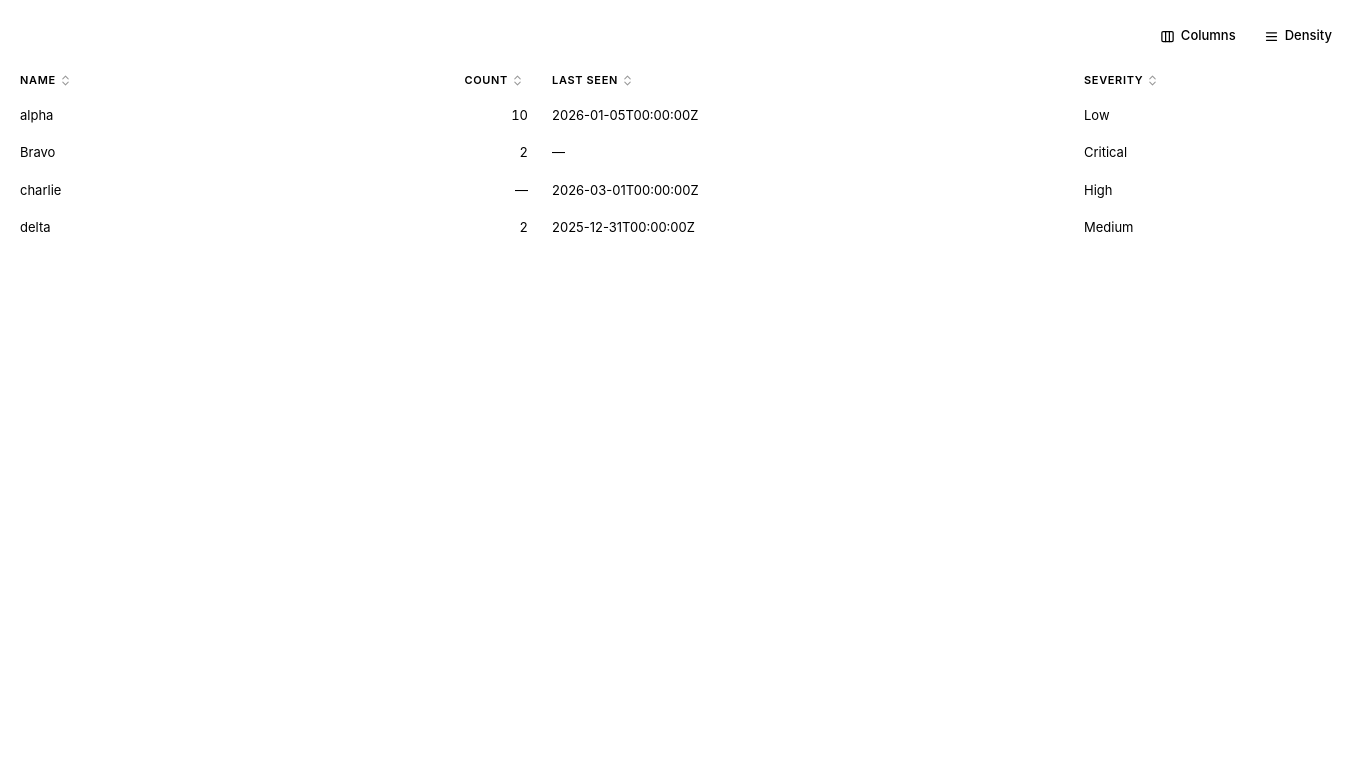
Test: DataGrid › switches density from an accessible radio group
Click the button "Density": (1298, 36) x1=1254 y1=20 x2=1342 y2=52
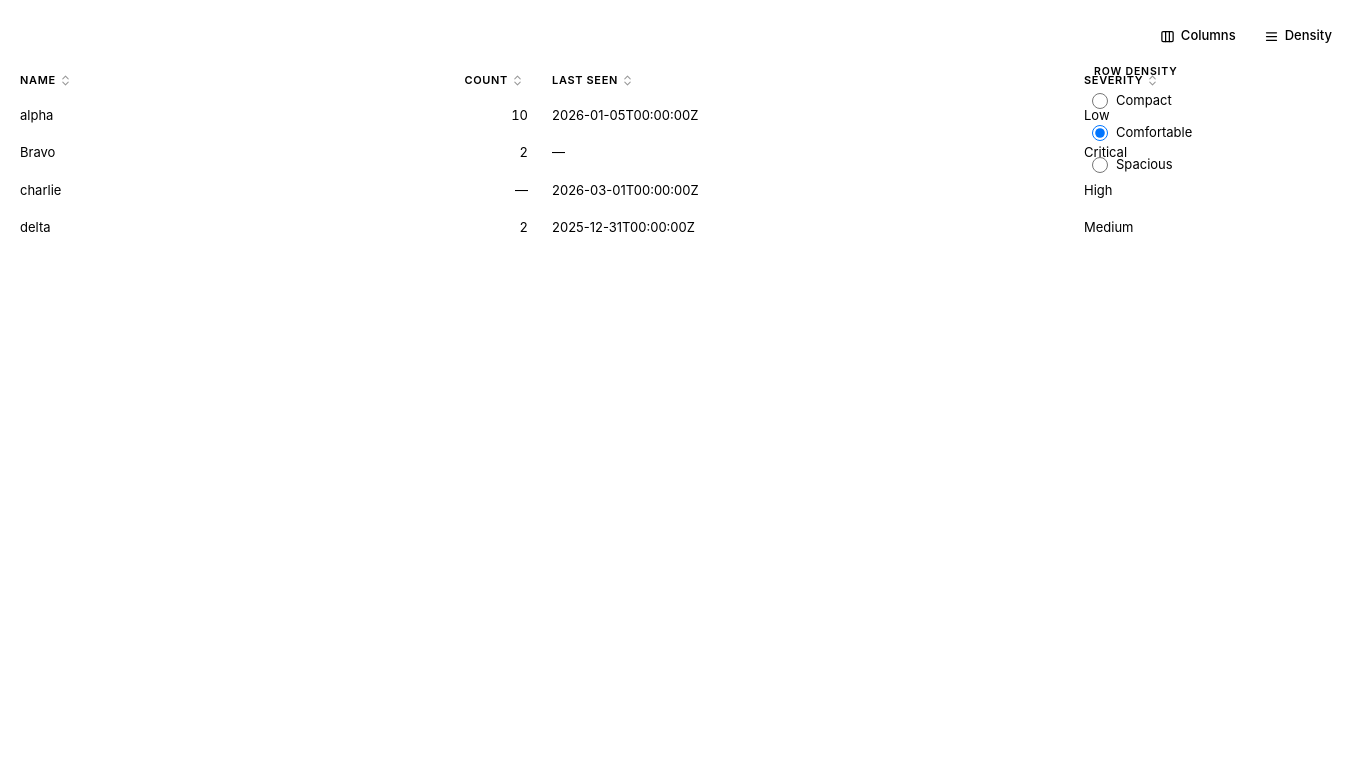
Click the radio button labelled "Spacious": (1100, 165) x1=1092 y1=157 x2=1108 y2=173
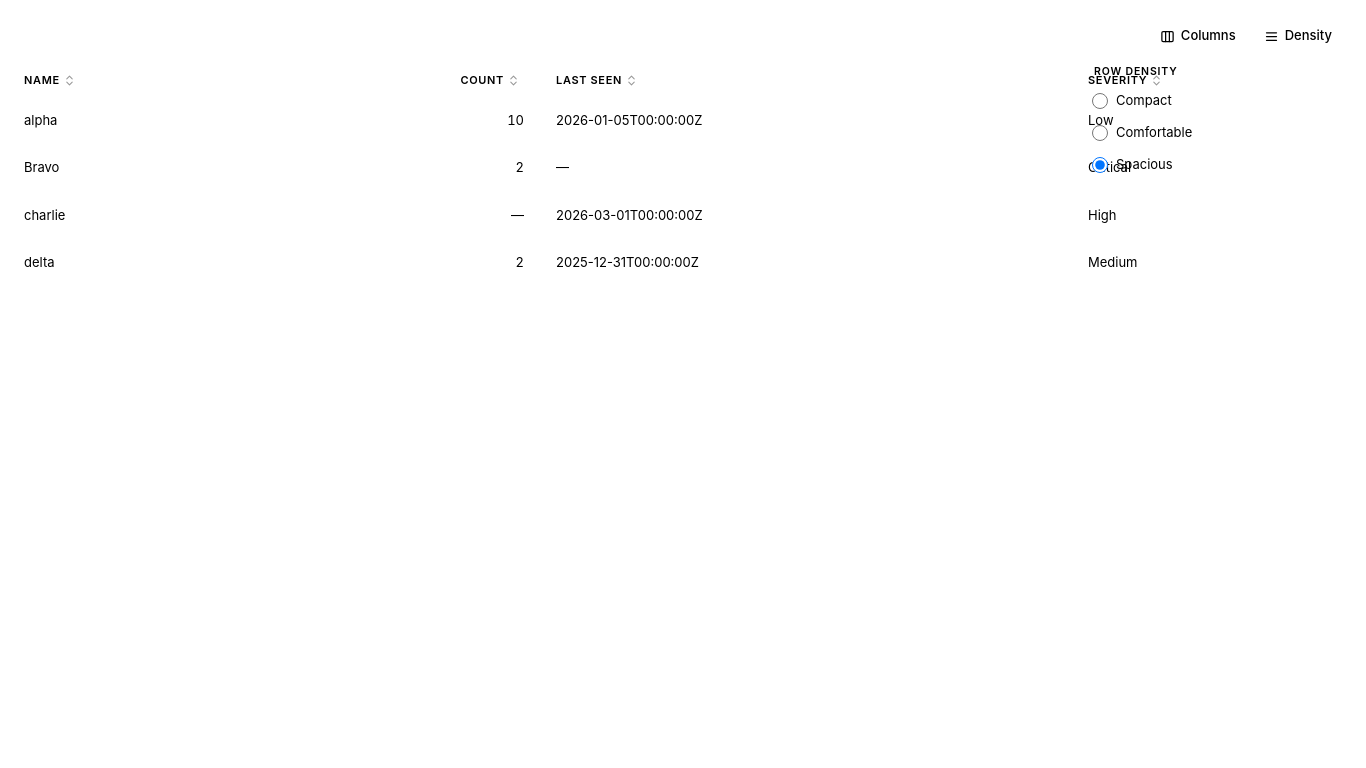
Result: the element with class "data-grid" has class "dg-density-spacious" at x1=8 y1=8 x2=1358 y2=286
